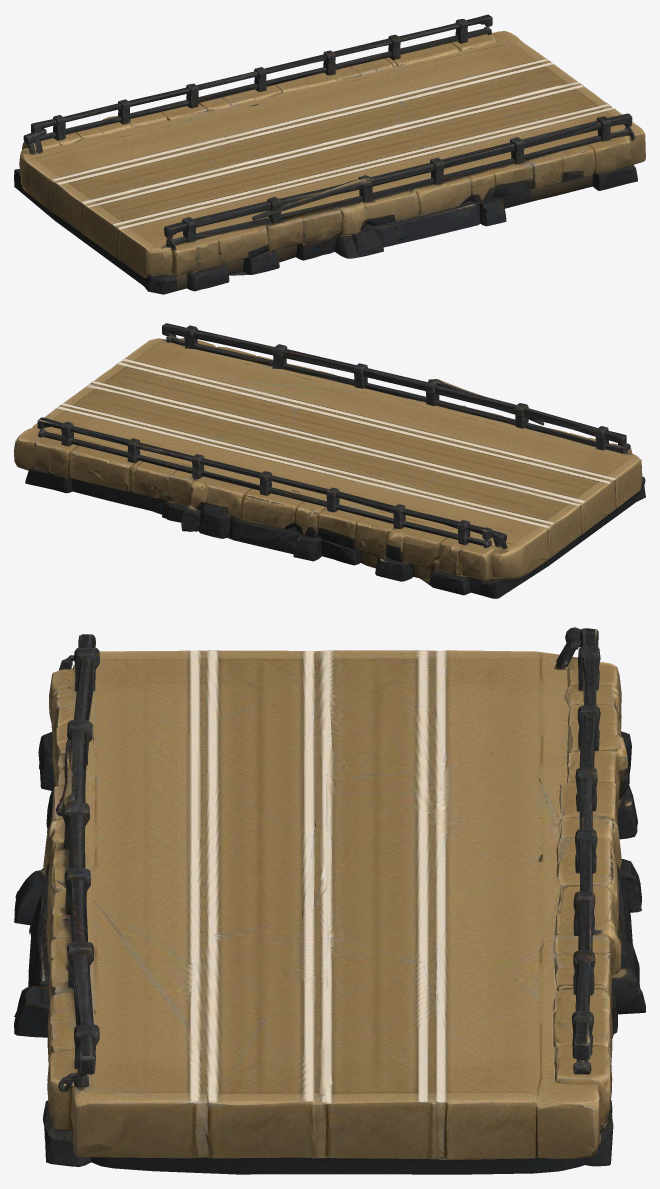
The model's file is road-straight.glb.
3 views of the same model, one above another, from view 1: azimuth 30°, elevation 25°; view 2: azimuth 150°, elevation 25°; view 3: azimuth 270°, elevation 25° (orthographic). The views are drawn at different scales.
Size of the model in its own units: 1.9 by 0.235 by 1.11.
Materials: 1 (1 with a texture image).
